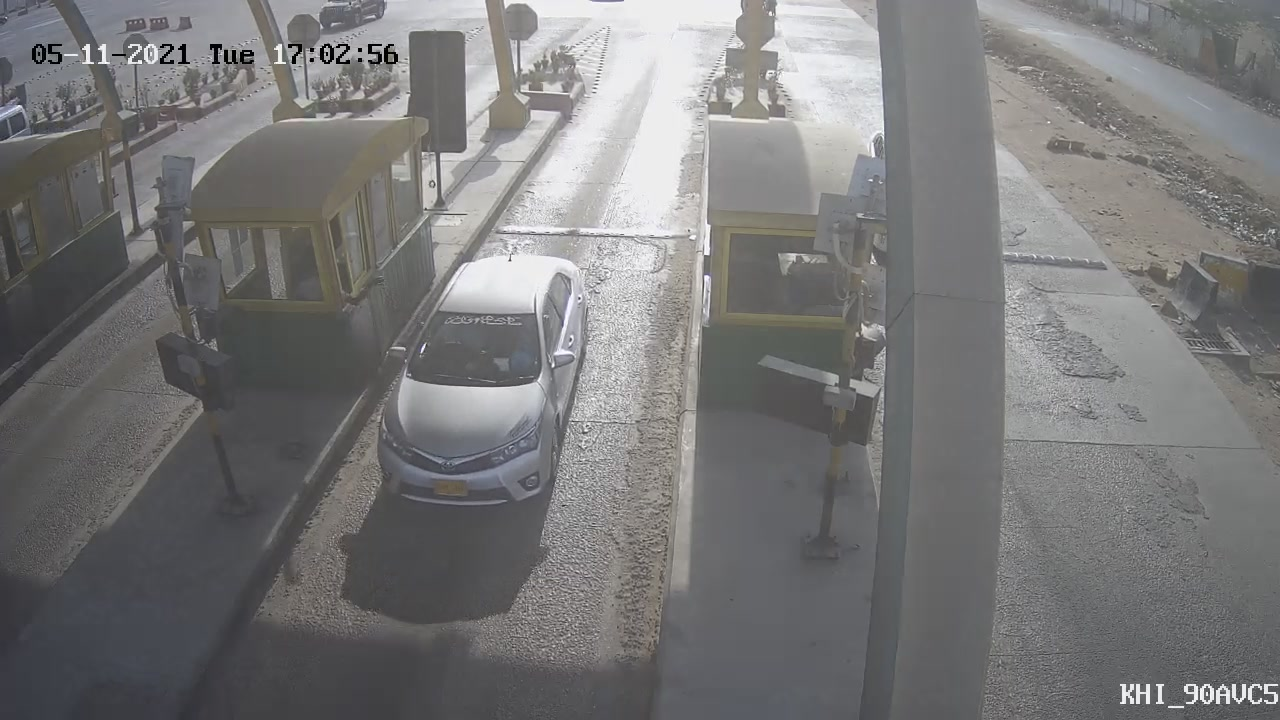F1: (344, 230, 616, 527)
